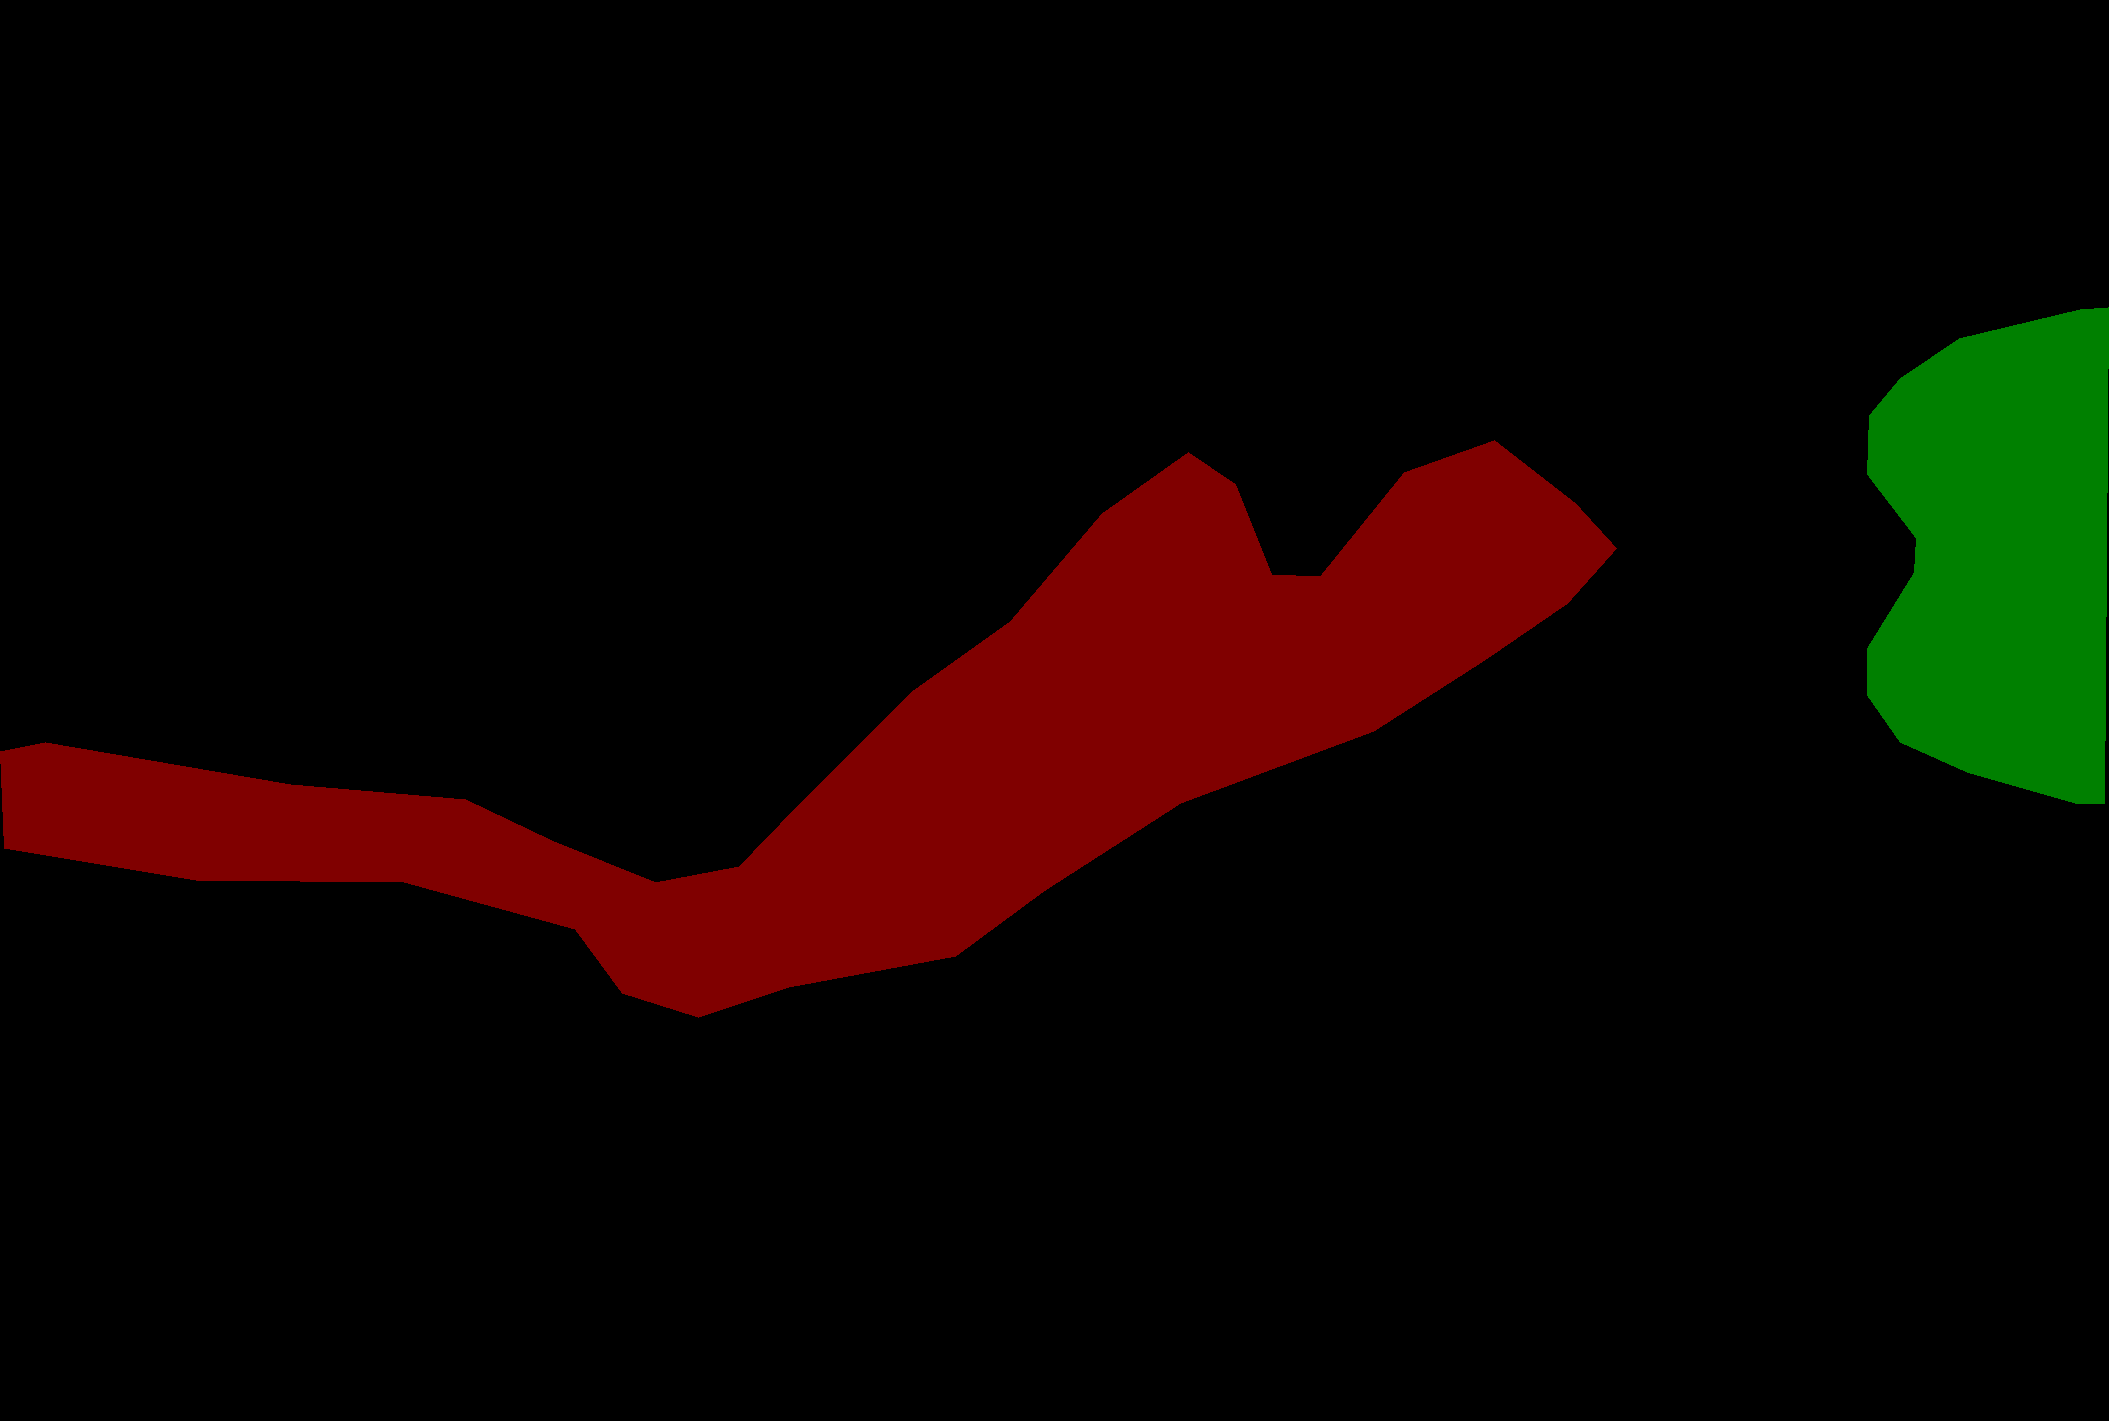fire: (0, 439, 1616, 1017), (1866, 308, 2107, 802)
